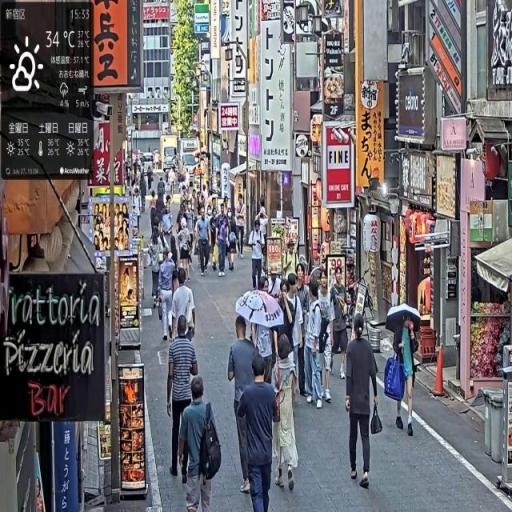person: (344, 312, 382, 490), (237, 353, 279, 512), (228, 311, 261, 497), (181, 372, 224, 512), (167, 315, 200, 481), (270, 334, 302, 494), (303, 280, 325, 408), (316, 273, 336, 407), (331, 265, 351, 383), (171, 264, 198, 344), (157, 244, 178, 345), (196, 205, 212, 277), (177, 217, 194, 284), (235, 193, 248, 262)
